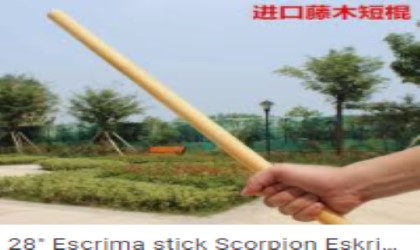baston_e: (62, 9, 255, 178)
baston_v: (310, 197, 359, 232), (37, 1, 62, 25)
